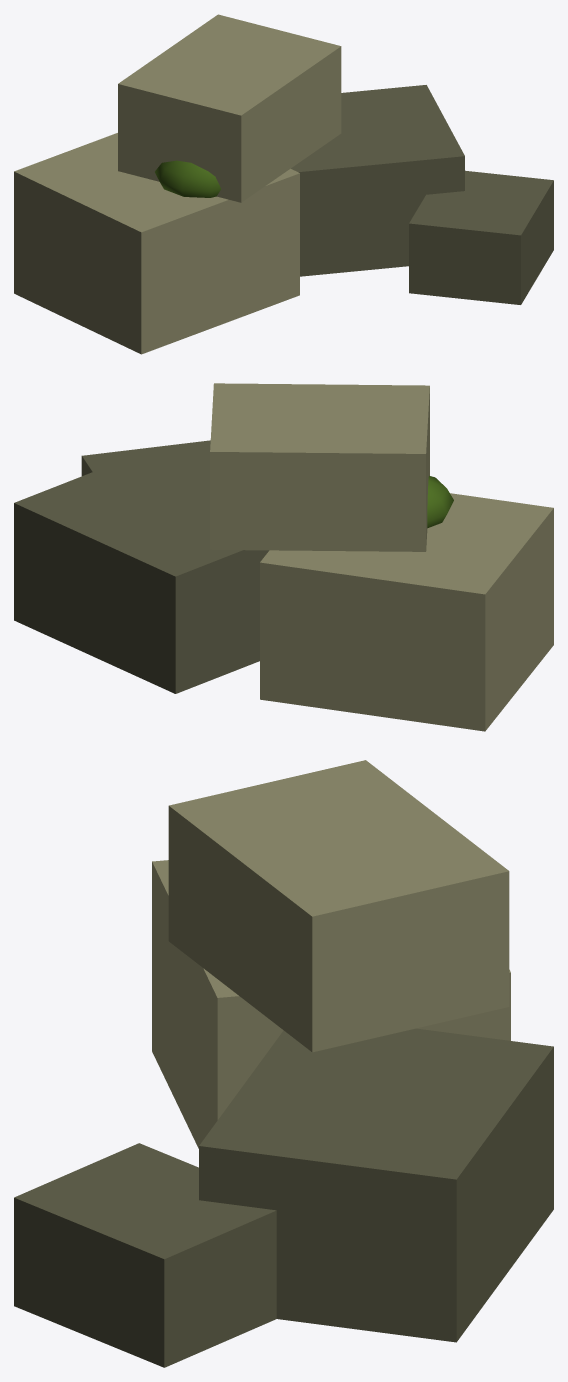
The model's file is jg_rubble_blocks.glb.
3 views of the same model, one above another, from view 1: azimuth 30°, elevation 25°; view 2: azimuth 150°, elevation 25°; view 3: azimuth 270°, elevation 25° (orthographic). The views are drawn at different scales.
Parts seen in each view (by area): view 1: jg_rubble_blocks; view 2: jg_rubble_blocks; view 3: jg_rubble_blocks.
Boxes of the visible parts, x1,y1,x2,y2 form: jg_rubble_blocks: [14, 14, 553, 354]; jg_rubble_blocks: [14, 383, 553, 731]; jg_rubble_blocks: [14, 760, 553, 1367].
Bounding box in the file's own units: 2.7 × 1.2 × 1.8.
